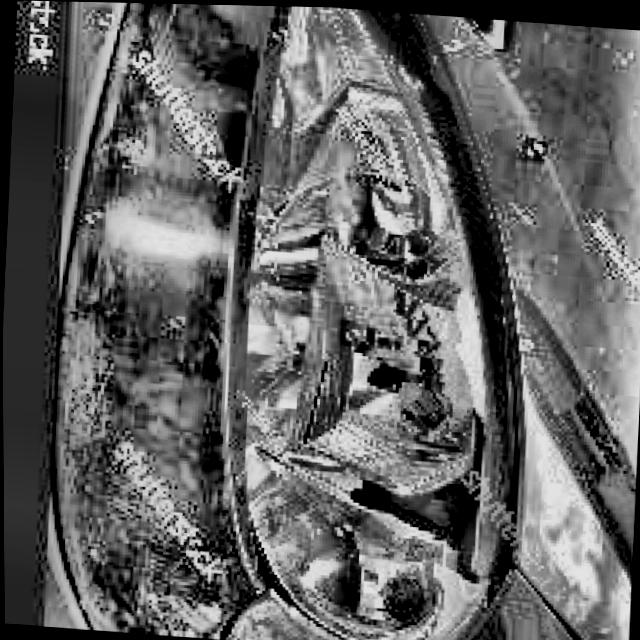head_lamp: (253, 237, 496, 640)
